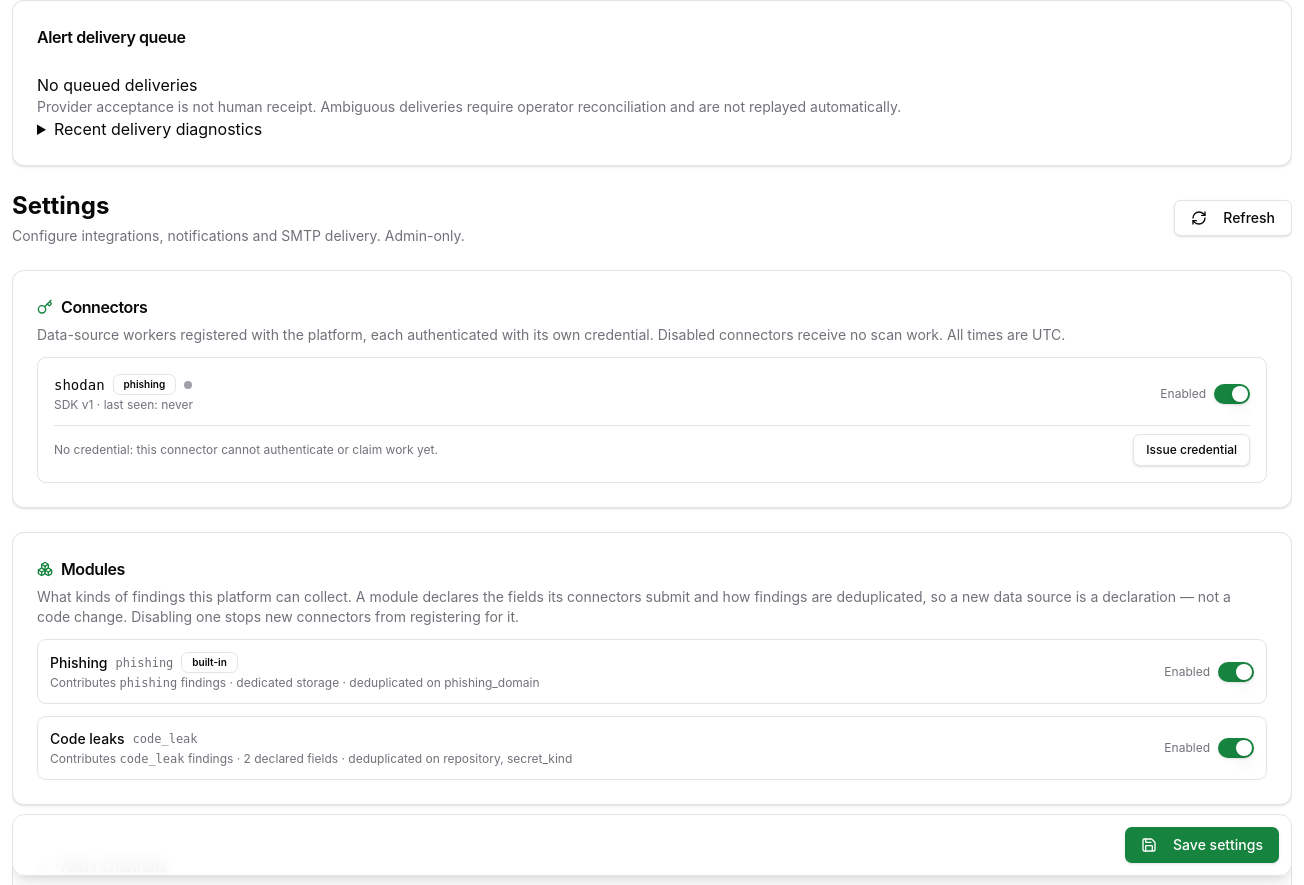
Scenario: SettingsPage › issues a connector credential and states that it is shown once
The image size is (1304, 885).
Click the button "Issue credential" at (1192, 450), box [1133,434,1250,466]
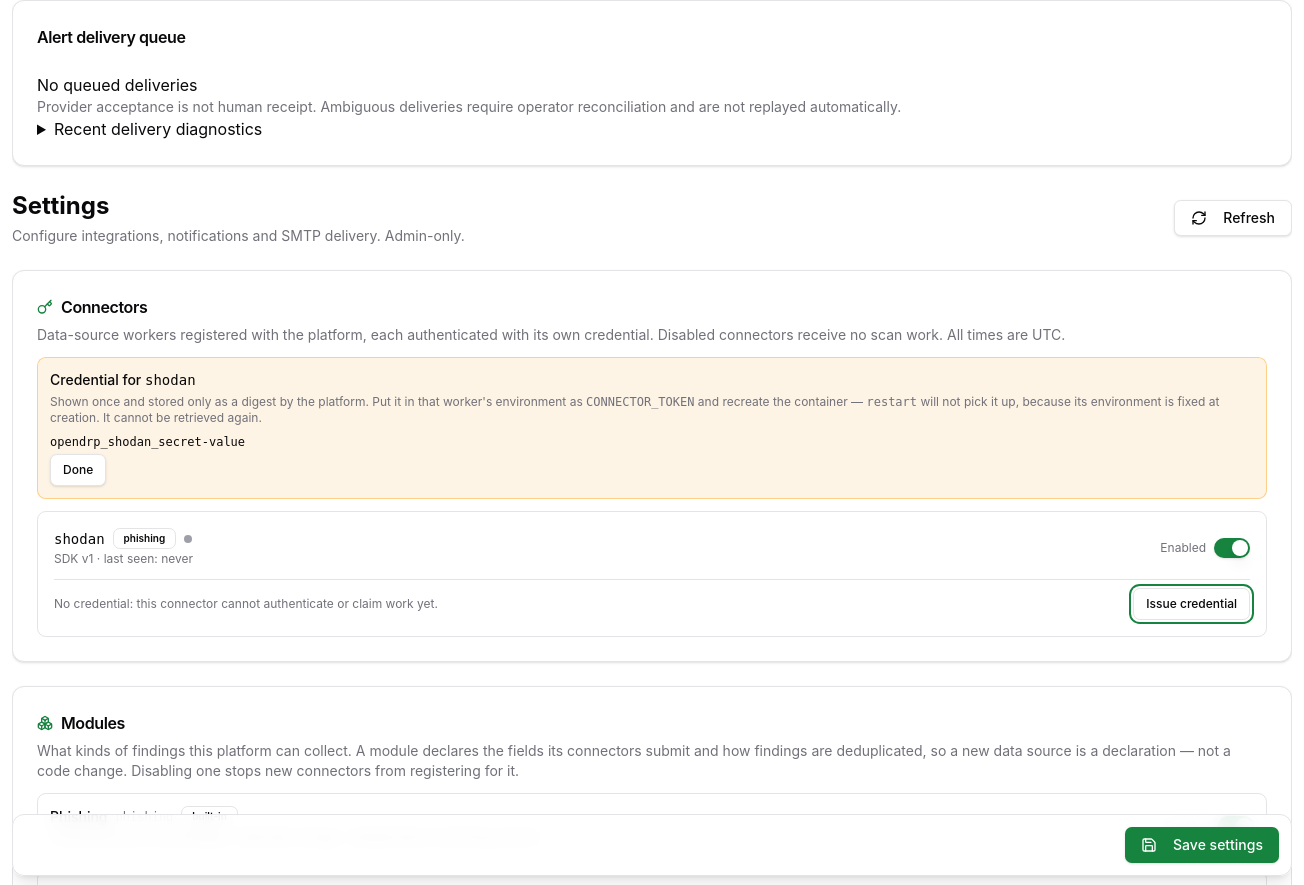
Expected: the text "opendrp_shodan_secret-value" is shown, [50,435,245,449]
Expected: the text "Shown once" is shown, [50,394,586,409]
